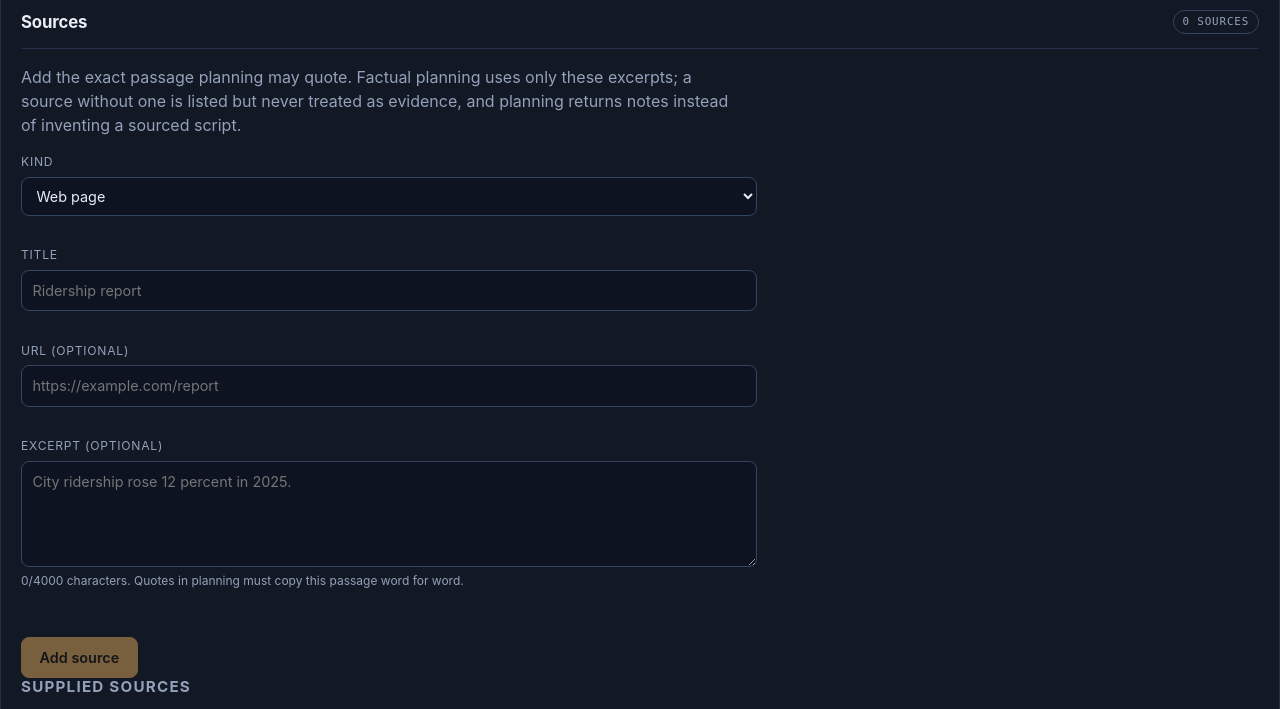
Test: SourcesPanel › adds a source with its excerpt and deletes it
Select "Interview / transcript" in the dropdown labelled "Kind" at (389, 197), box [21,177,757,216]
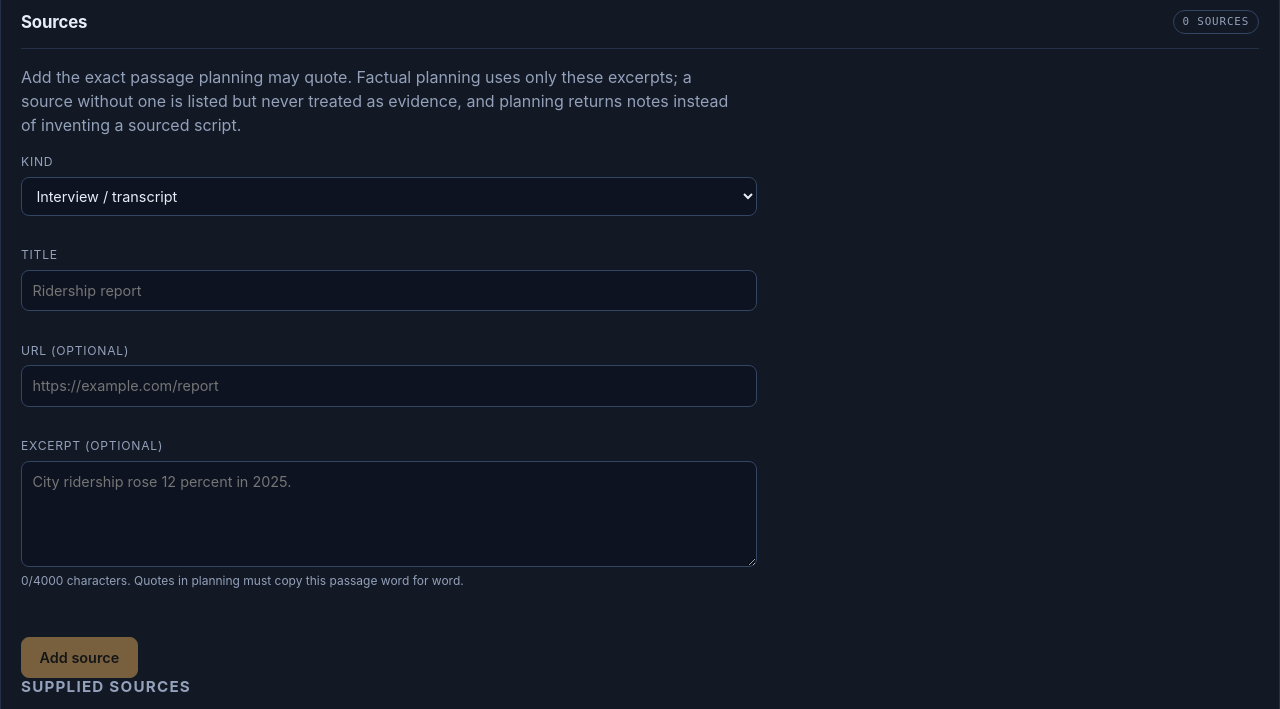
Type "Founder interview" into the field labelled "Title" at (389, 291), box [21,270,757,311]
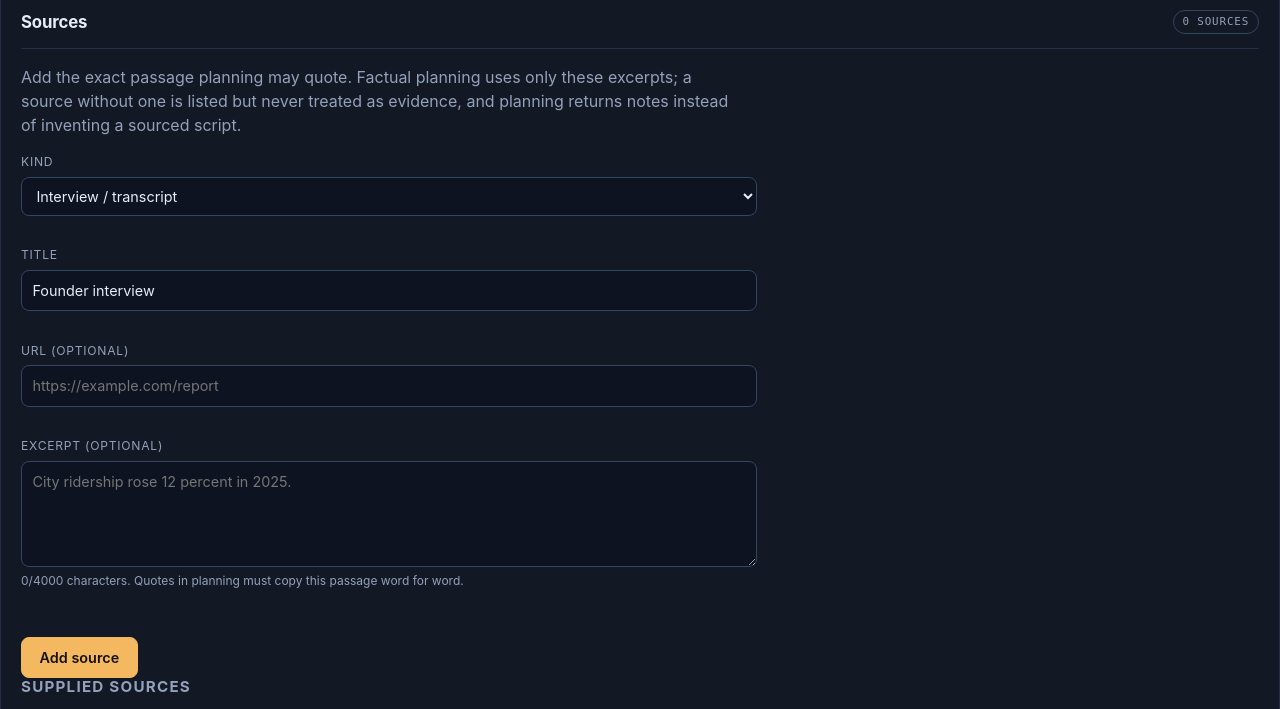
Type "https://example.com/interview" into the field labelled "URL (optional)" at (389, 386), box [21,366,757,407]
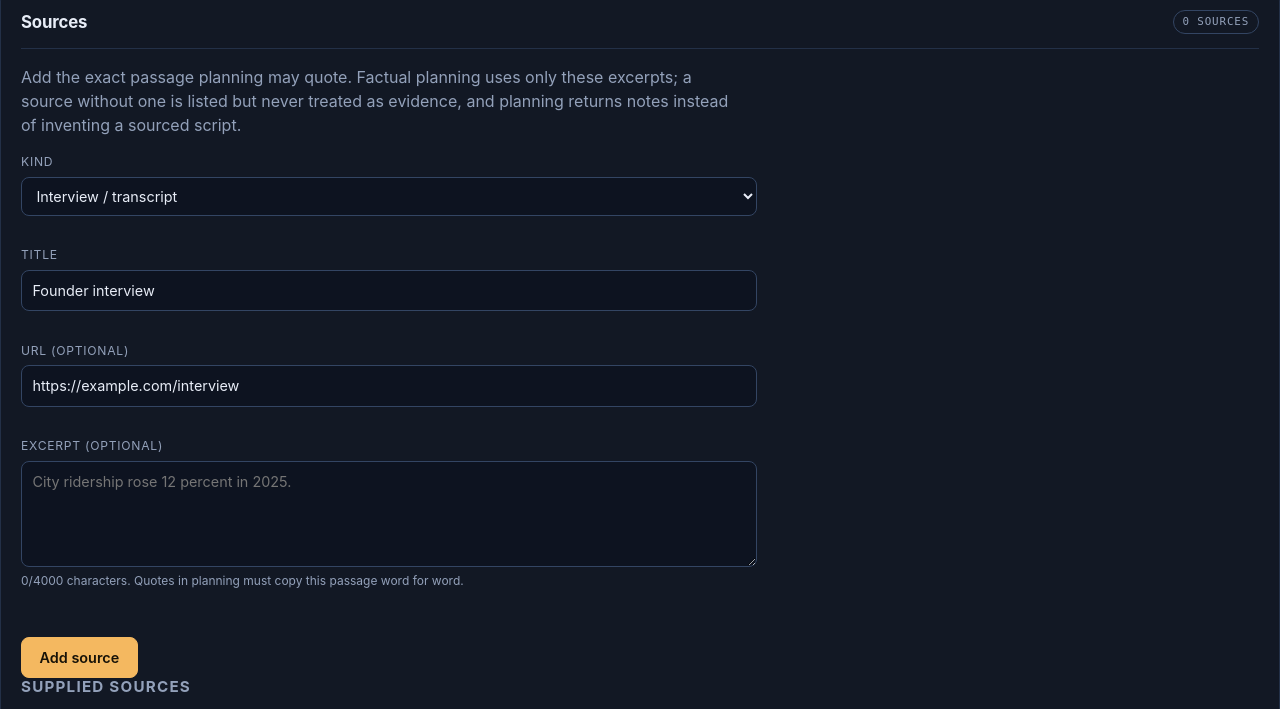
Type "We rebuilt the whole engine in a weekend." into the text box labelled "Excerpt" at (389, 514), box [21,461,757,567]
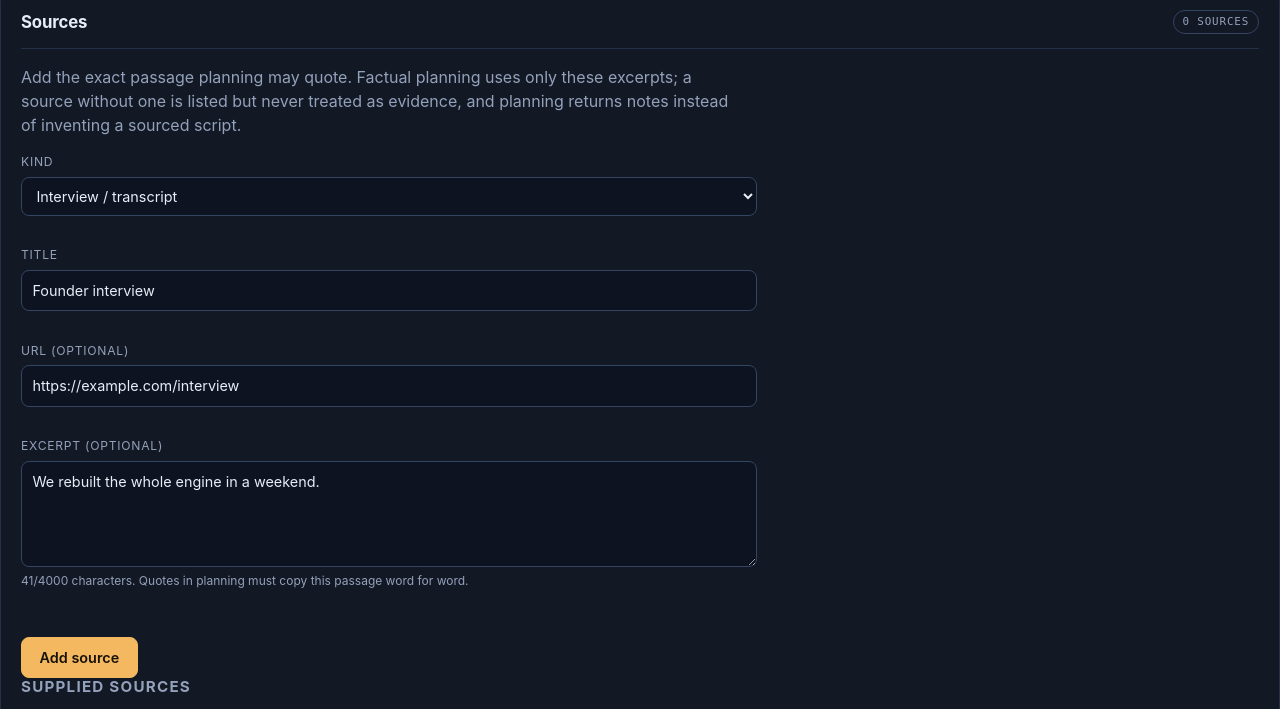
Click the button "Add source" at (79, 657), box [21,637,138,678]
(page scrolled)
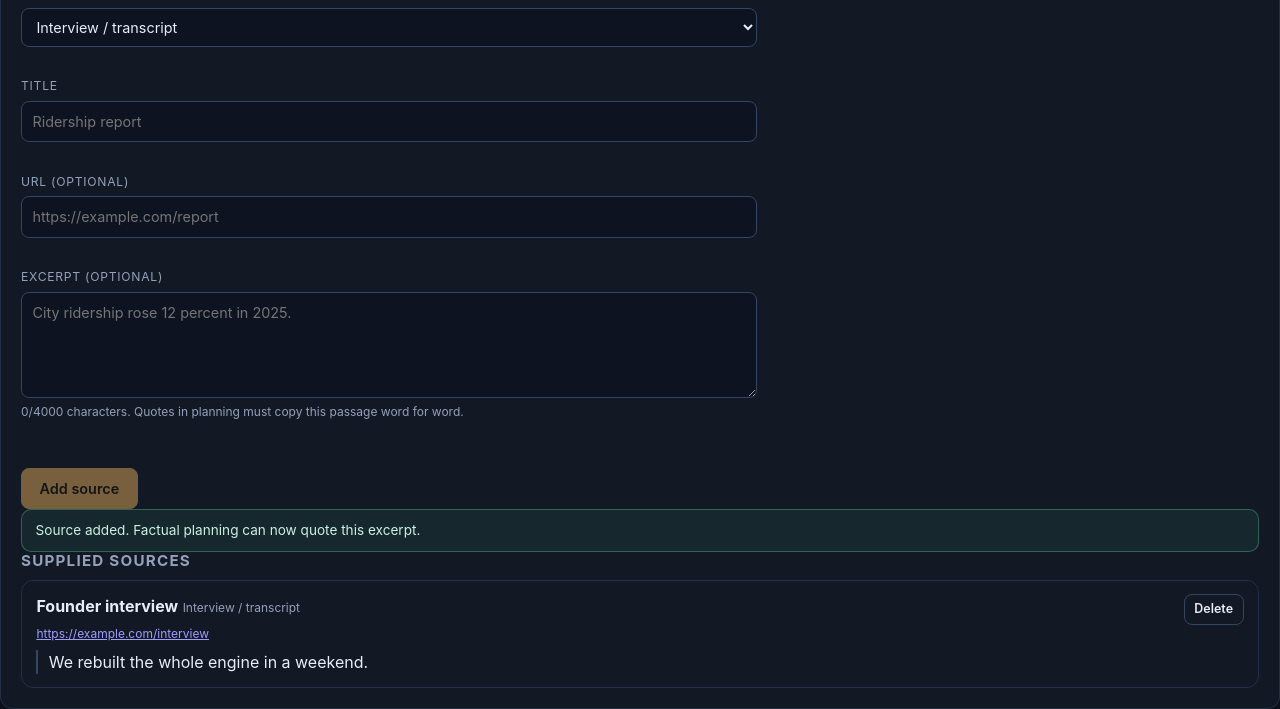
Check: the text "Founder interview" is shown, box [36,596,178,616]
Check: the text "We rebuilt the whole engine in a weekend." is shown, box [36,650,1244,674]
Check: the text "Source added. Factual planning can now quote this excerpt." is shown, box [21,509,1259,552]
Click the button with aria-label "Delete source Founder interview" at (1214, 609), box [1184,594,1244,625]
(page scrolled)
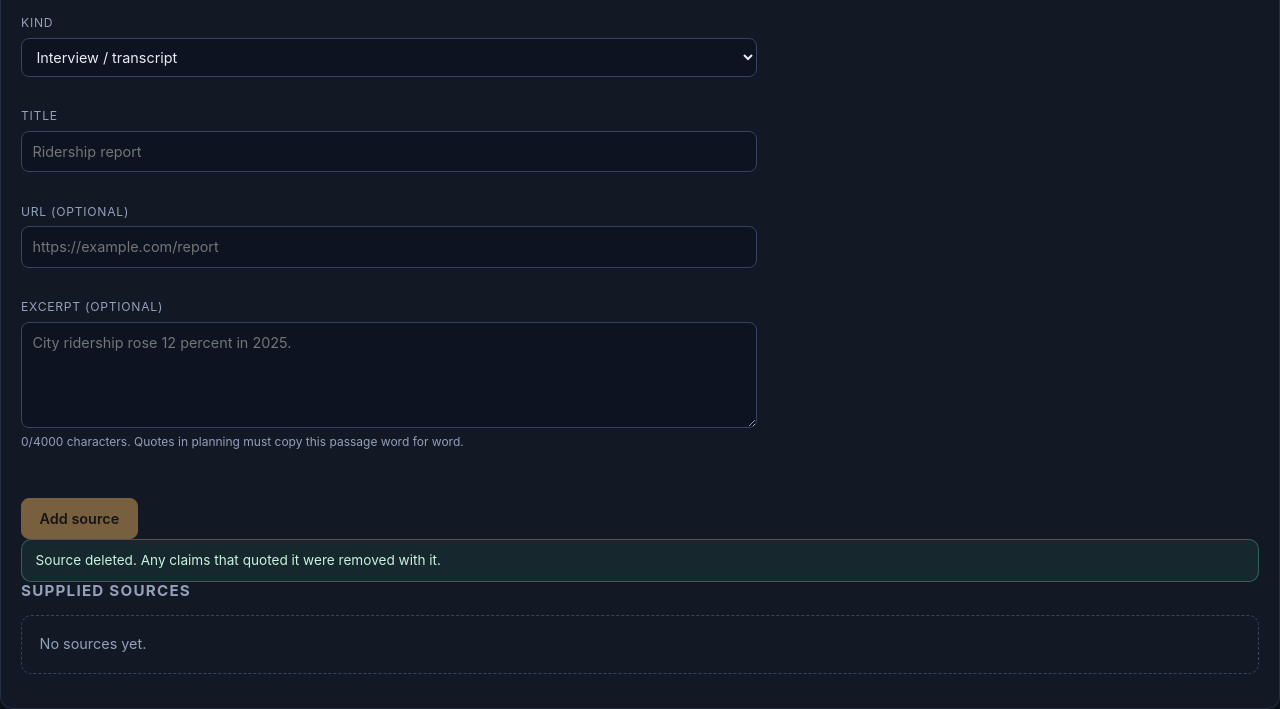
Check: the text "Source deleted. Any claims that quoted it were removed with it." is shown, box [21,539,1259,582]
Check: the text "No sources yet." is shown, box [21,615,1259,674]
